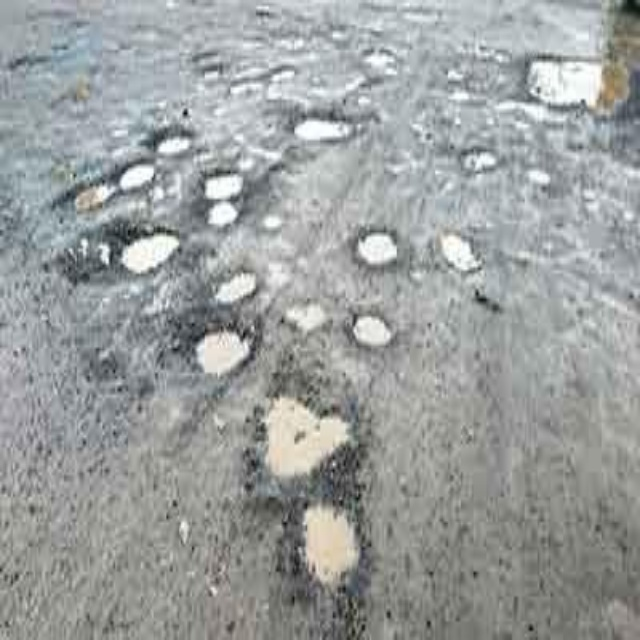pothole: (253, 389, 373, 582), (525, 44, 639, 132), (185, 315, 259, 386), (336, 301, 408, 370), (201, 50, 301, 91), (293, 101, 357, 163), (118, 226, 183, 280), (437, 220, 490, 280), (359, 221, 416, 273), (60, 164, 117, 214), (428, 128, 488, 173), (155, 120, 203, 167), (120, 154, 161, 206), (197, 165, 239, 203), (365, 37, 402, 80)
